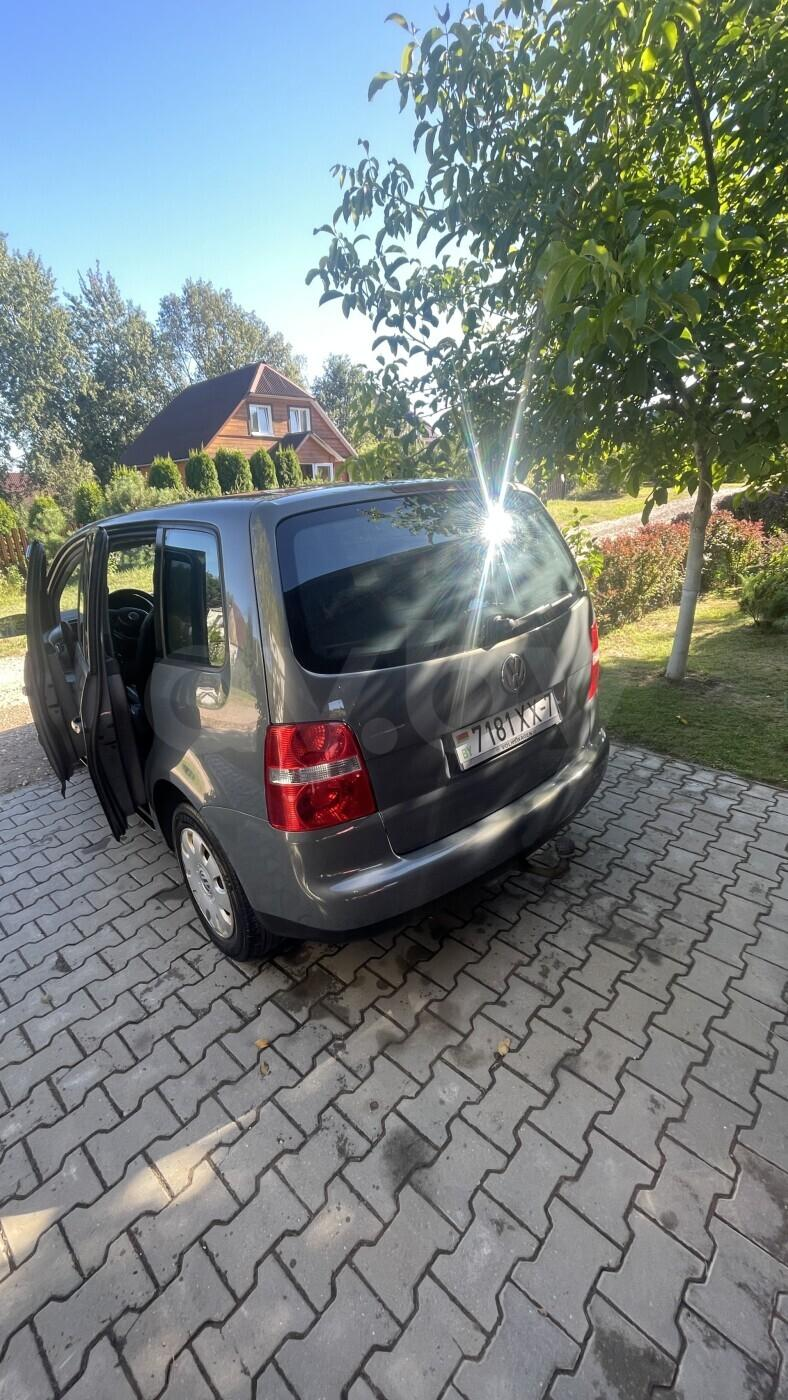Touran_2003-2006: (14, 474, 616, 948)
